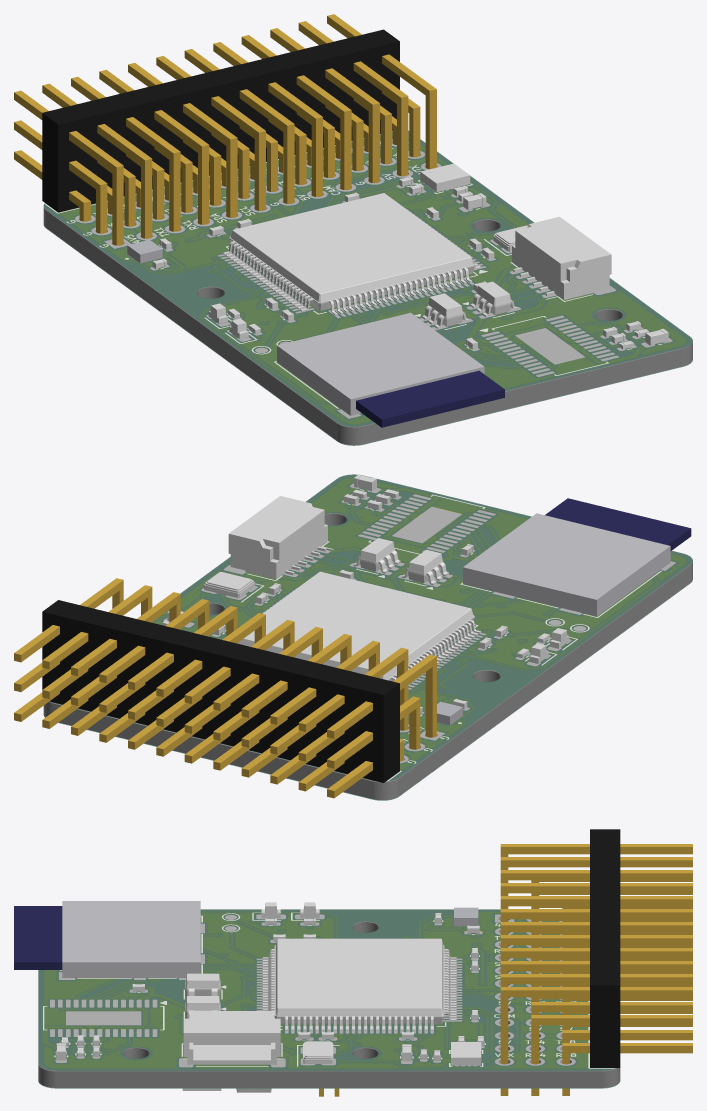
File: upper.glb
3 views of the same model, one above another, from view 1: azimuth 30°, elevation 25°; view 2: azimuth 150°, elevation 25°; view 3: azimuth 270°, elevation 25° (orthographic). The views are drawn at different scales.
Visible parts, largest first — view 1: =>[0:1:1:26], pins, body (×2), =>[0:1:1:28], U1, =>[0:1:1:21], =>[0:1:1:22], J5, part0, =>[0:1:1:24], U7, U6 (+2 smaller); view 2: body (×2), pins, =>[0:1:1:26], =>[0:1:1:28], U1, =>[0:1:1:21], J5, =>[0:1:1:22], part0, =>[0:1:1:24], U7, U6 (+2 smaller); view 3: =>[0:1:1:26], pins, =>[0:1:1:28], body (×3), U1, =>[0:1:1:21], =>[0:1:1:22], J5, part0, =>[0:1:1:24], U6, U2 (+3 smaller).
Part boxes in pixels (x1,y1,x2,y2): =>[0:1:1:26]: [43, 130, 692, 426]; pins: [14, 14, 436, 245]; body (×2): [42, 29, 484, 415]; =>[0:1:1:28]: [43, 141, 692, 445]; U1: [223, 193, 481, 315]; =>[0:1:1:21]: [60, 146, 685, 423]; =>[0:1:1:22]: [75, 139, 672, 418]; J5: [512, 216, 611, 299]; part0: [356, 370, 504, 427]; =>[0:1:1:24]: [44, 131, 662, 408]; U7: [470, 281, 517, 317]; U6: [422, 293, 468, 328]; body (×2): [42, 513, 670, 782]; pins: [14, 578, 436, 798]; =>[0:1:1:26]: [50, 474, 692, 781]; =>[0:1:1:28]: [43, 475, 692, 800]; U1: [237, 571, 481, 685]; =>[0:1:1:21]: [154, 478, 685, 770]; J5: [228, 496, 327, 578]; =>[0:1:1:22]: [163, 483, 675, 763]; part0: [545, 498, 691, 550]; =>[0:1:1:24]: [222, 489, 661, 781]; U7: [353, 538, 400, 573]; U6: [402, 549, 448, 585]; =>[0:1:1:26]: [38, 909, 614, 1070]; pins: [500, 844, 692, 1095]; =>[0:1:1:28]: [38, 910, 620, 1087]; body (×3): [62, 829, 620, 1067]; U1: [262, 938, 456, 1030]; =>[0:1:1:21]: [43, 912, 587, 1067]; =>[0:1:1:22]: [50, 914, 575, 1067]; J5: [183, 1011, 280, 1065]; part0: [14, 906, 62, 969]; =>[0:1:1:24]: [43, 912, 614, 1068]; U6: [185, 973, 220, 996]; U2: [451, 1042, 481, 1065].
Size of the model in its own units: 0.0315 by 0.0145 by 0.056.
